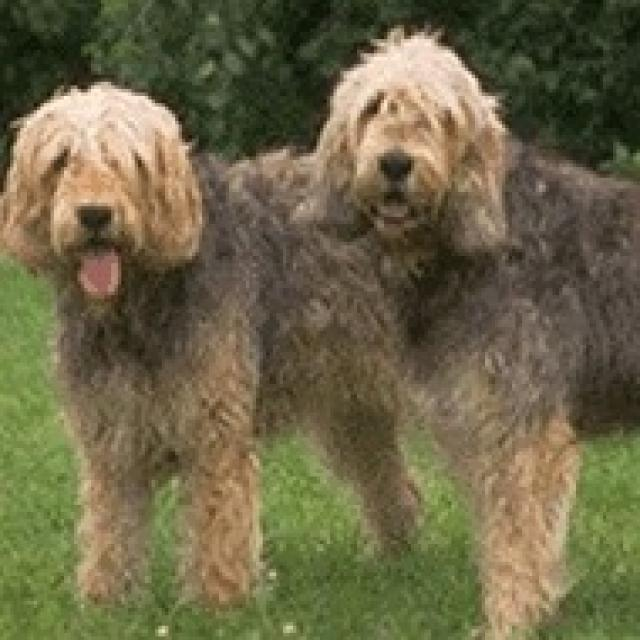dog: (3, 25, 640, 640)
